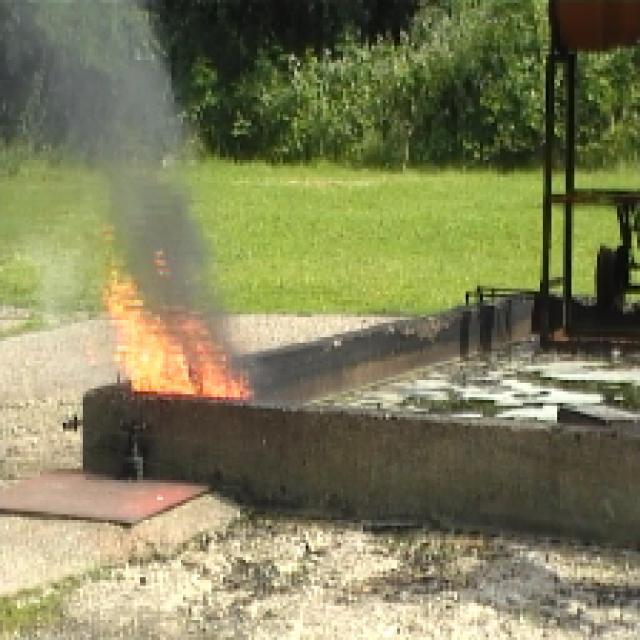Fire: (102, 278, 235, 392)
Smoke: (105, 48, 176, 260)
